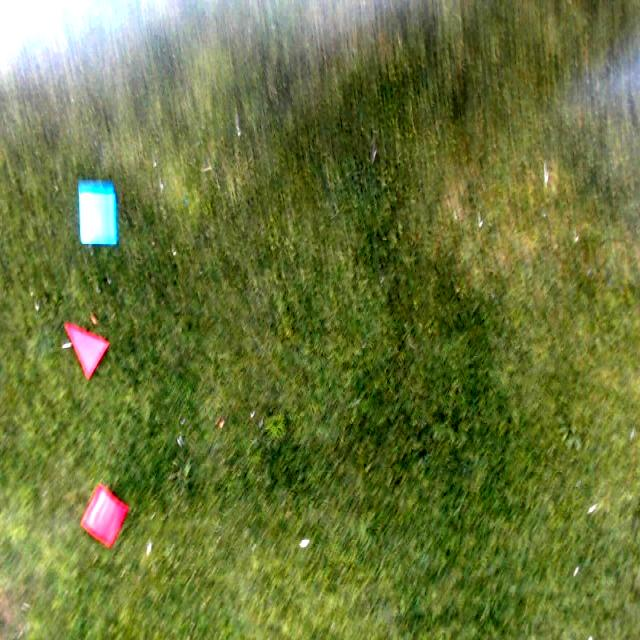blue_square: (80, 190, 116, 243)
red_square: (82, 486, 125, 545)
red_triangle: (65, 325, 111, 377)
